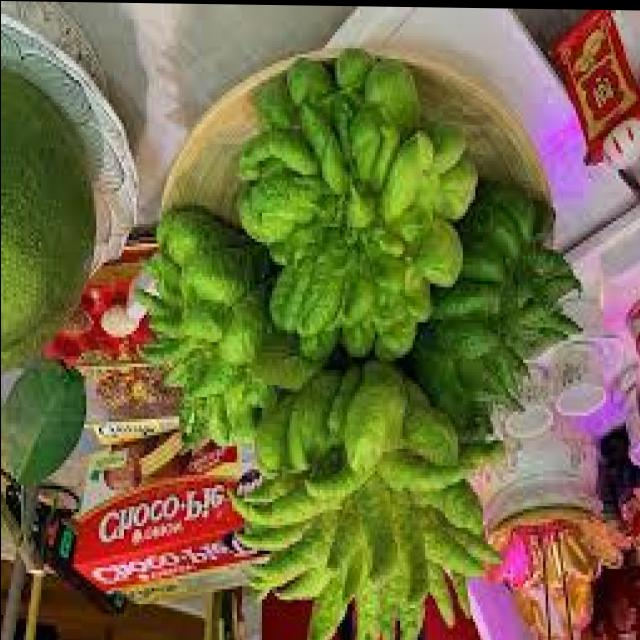PhatThu: (232, 46, 474, 353), (248, 369, 462, 640), (430, 190, 582, 410), (133, 212, 263, 447)
